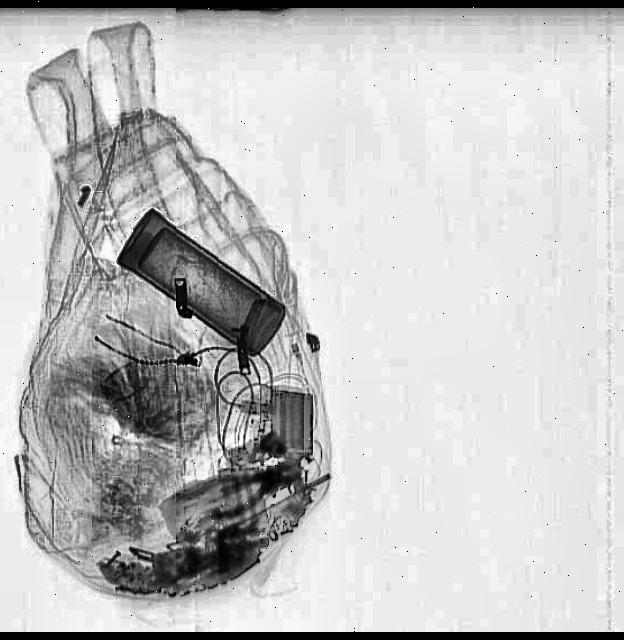Pliers: (203, 448, 307, 526)
